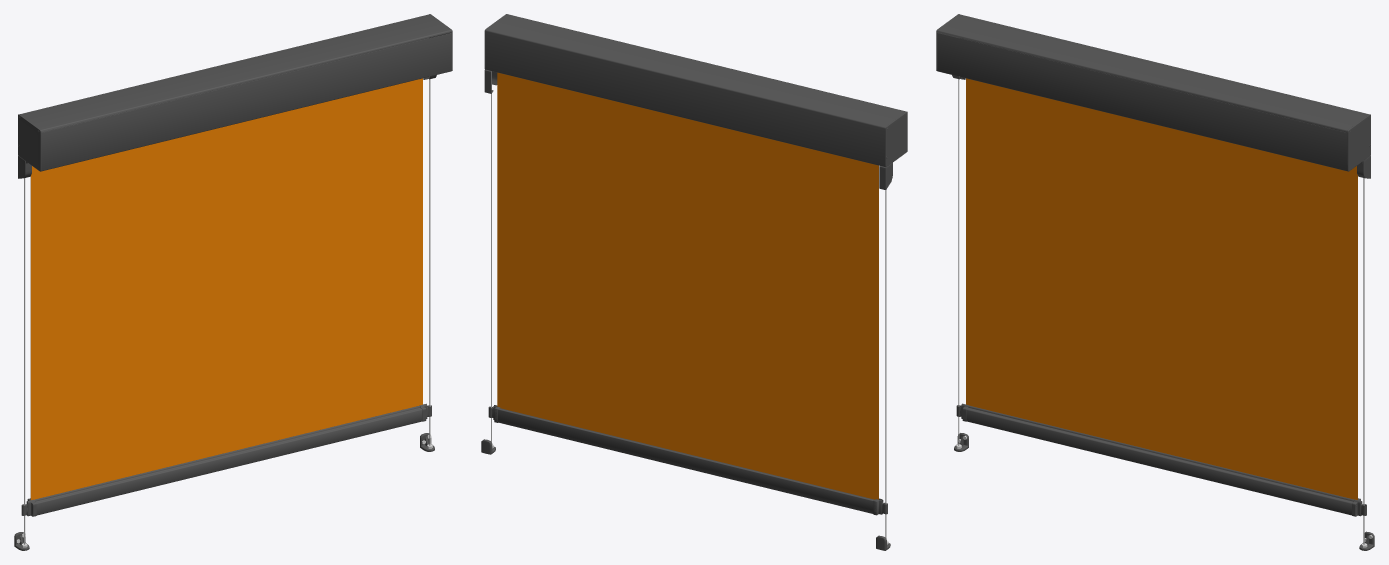
Rendered from VS_Cable_eckig.glb.
3 views of the same model, side by side, from view 1: azimuth 30°, elevation 25°; view 2: azimuth 150°, elevation 25°; view 3: azimuth 330°, elevation 25° (orthographic). The views are drawn at different scales.
Parts seen in each view (by area): view 1: Plane, VS-Z_FME90ų_Contra.003, Plane.001, VS-Z_FME90ų_Contra.004, VS-Z_FME90ų_Contra.010, Cube.018, Cube.016, Cube.017; view 2: Plane, Plane.001, VS-Z_FME90ų_Contra.004, Cube.018, Cube.017; view 3: Plane, VS-Z_FME90ų_Contra.003, Plane.001, VS-Z_FME90ų_Contra.004, VS-Z_FME90ų_Contra.010, Cube.019, Cube.016, Cube.017.
Boxes of the visible parts, left/top/right/bottom form: Plane: left=30, top=78, right=422, bottom=499; VS-Z_FME90ų_Contra.003: left=26, top=33, right=451, bottom=171; Plane.001: left=19, top=14, right=450, bottom=132; VS-Z_FME90ų_Contra.004: left=34, top=405, right=422, bottom=515; VS-Z_FME90ų_Contra.010: left=41, top=30, right=451, bottom=132; Cube.018: left=18, top=114, right=41, bottom=171; Cube.016: left=429, top=76, right=430, bottom=445; Cube.017: left=24, top=178, right=25, bottom=544; Plane: left=497, top=72, right=878, bottom=499; Plane.001: left=485, top=14, right=905, bottom=166; VS-Z_FME90ų_Contra.004: left=498, top=408, right=874, bottom=513; Cube.018: left=885, top=111, right=907, bottom=167; Cube.017: left=885, top=190, right=886, bottom=538; Plane: left=966, top=78, right=1357, bottom=499; VS-Z_FME90ų_Contra.003: left=937, top=33, right=1362, bottom=171; Plane.001: left=938, top=14, right=1368, bottom=132; VS-Z_FME90ų_Contra.004: left=966, top=405, right=1353, bottom=515; VS-Z_FME90ų_Contra.010: left=937, top=30, right=1347, bottom=132; Cube.019: left=1347, top=114, right=1370, bottom=171; Cube.016: left=1363, top=178, right=1364, bottom=544; Cube.017: left=958, top=79, right=959, bottom=445.
Size of the model in its own units: 2.01 by 2 by 0.2056.
Materials: 3 (1 with a texture image).
